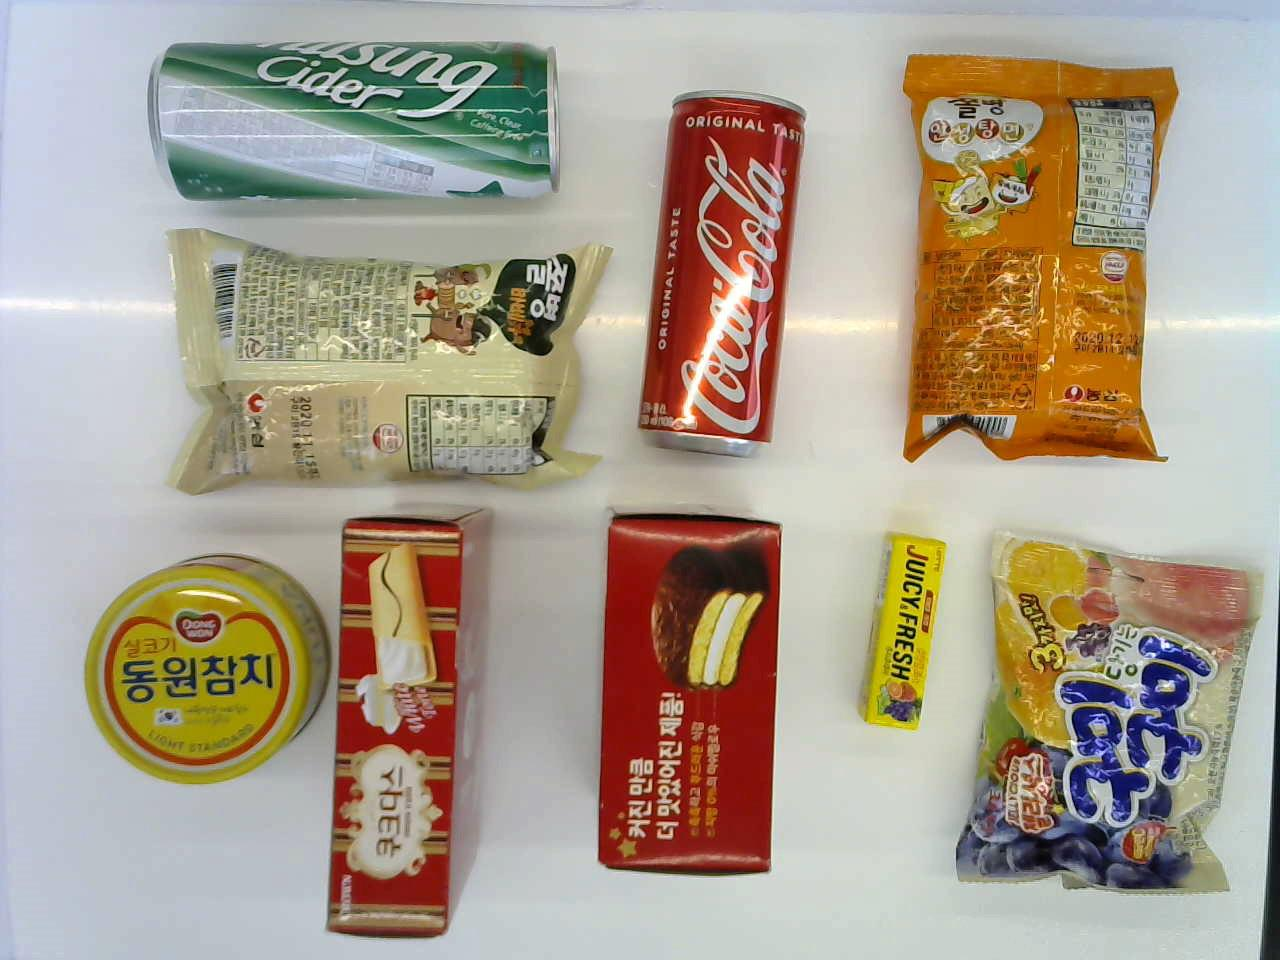chocopie: (590, 507, 793, 894)
cidar: (142, 39, 564, 221)
coke: (647, 87, 804, 451)
couque_white: (315, 504, 492, 937)
gumi_gumi: (961, 532, 1262, 896)
jjolbyung_noodle: (892, 47, 1171, 472)
jjolbyung_ori: (165, 229, 607, 506)
juicyfresh: (863, 533, 943, 733)
tuna: (82, 554, 324, 781)
